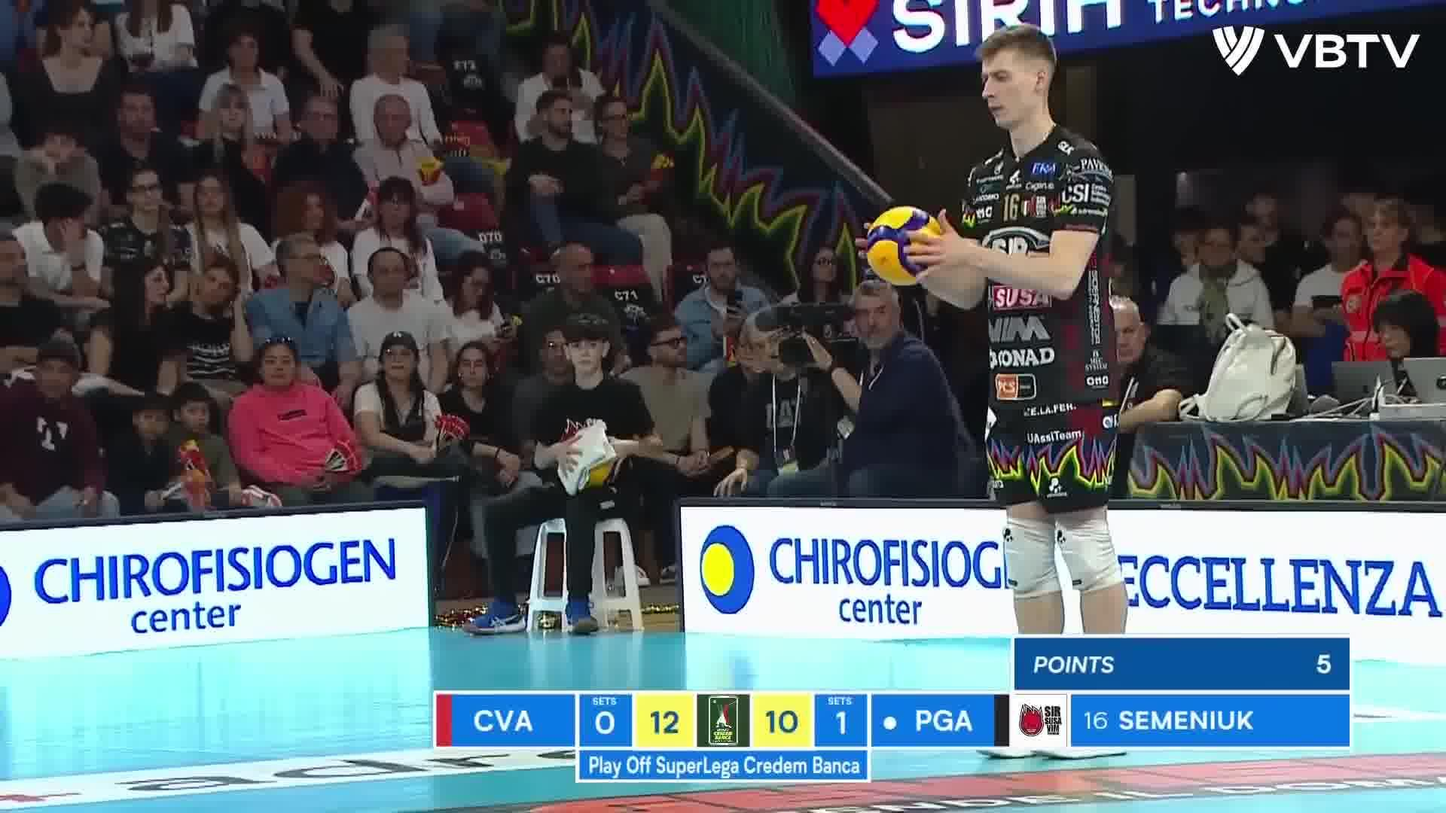balls: (853, 196, 950, 293)
